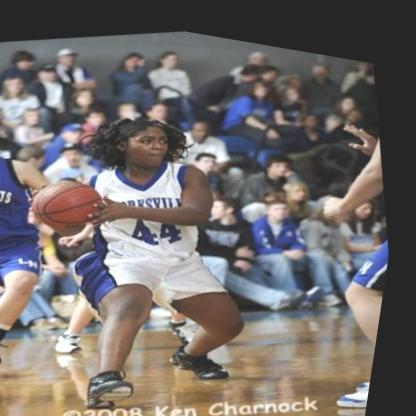basketball: (28, 165, 117, 240)
